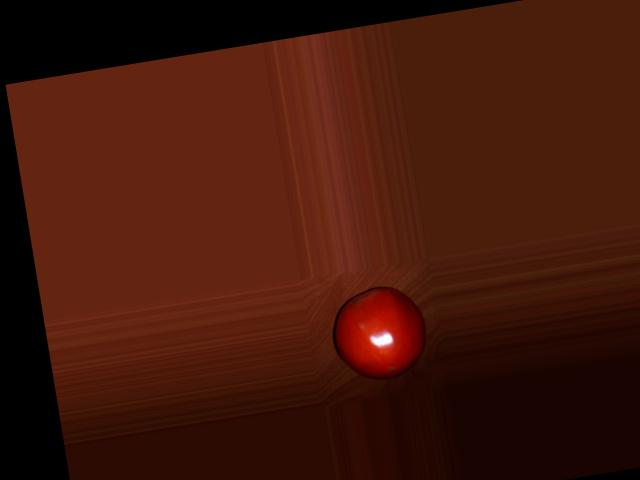tomato: (327, 281, 433, 386)
